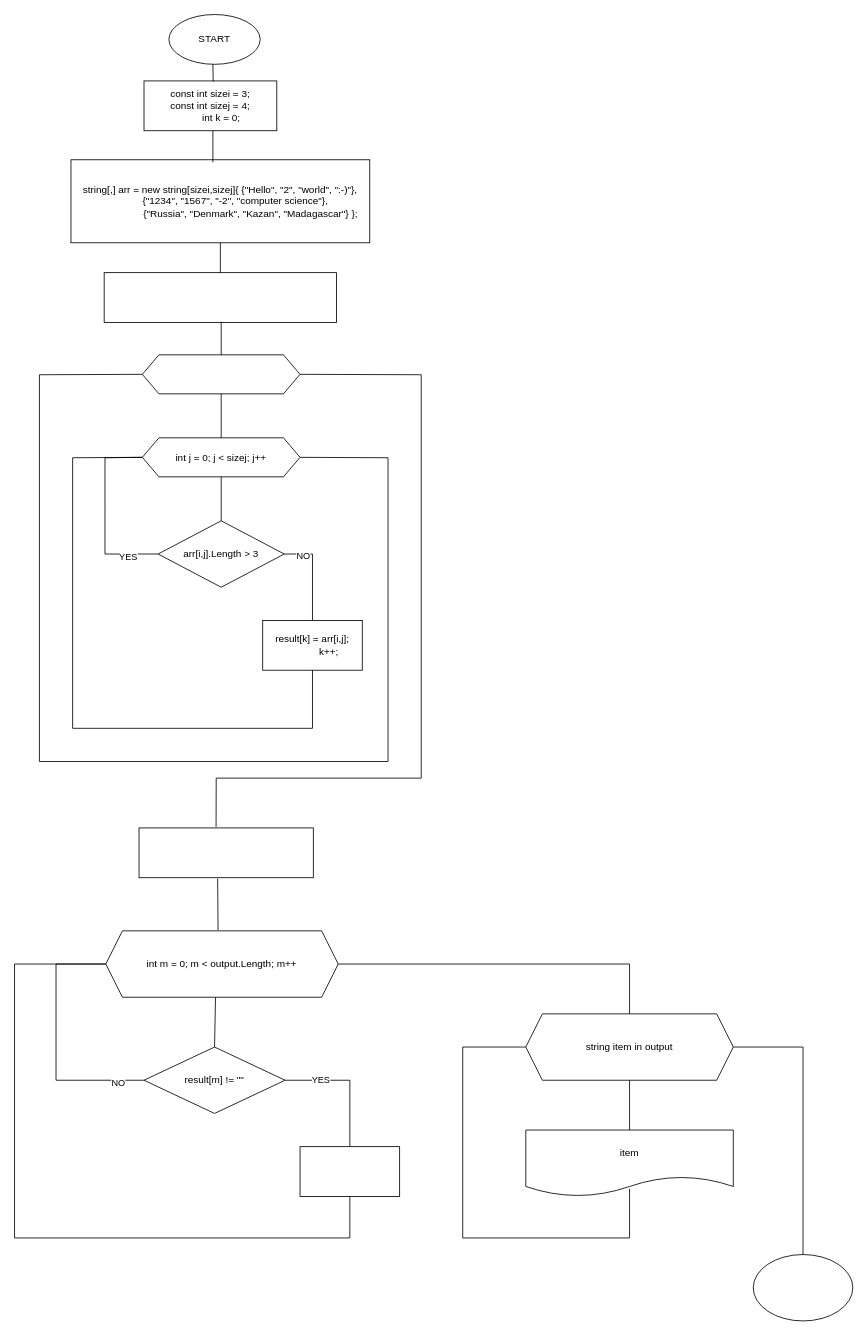
This 867x1335 diagram has some shape labels left out. The centre of each missing label's shape, as x and y in pixels:
FINISH: point 802,1287
int i = 0; i < sizei; i++: point 221,374
output[m] = result[m]: point 349,1171
string[] output = new string[k];: point 225,852
string[] result = new string[sizei * sizej];: point 220,297
